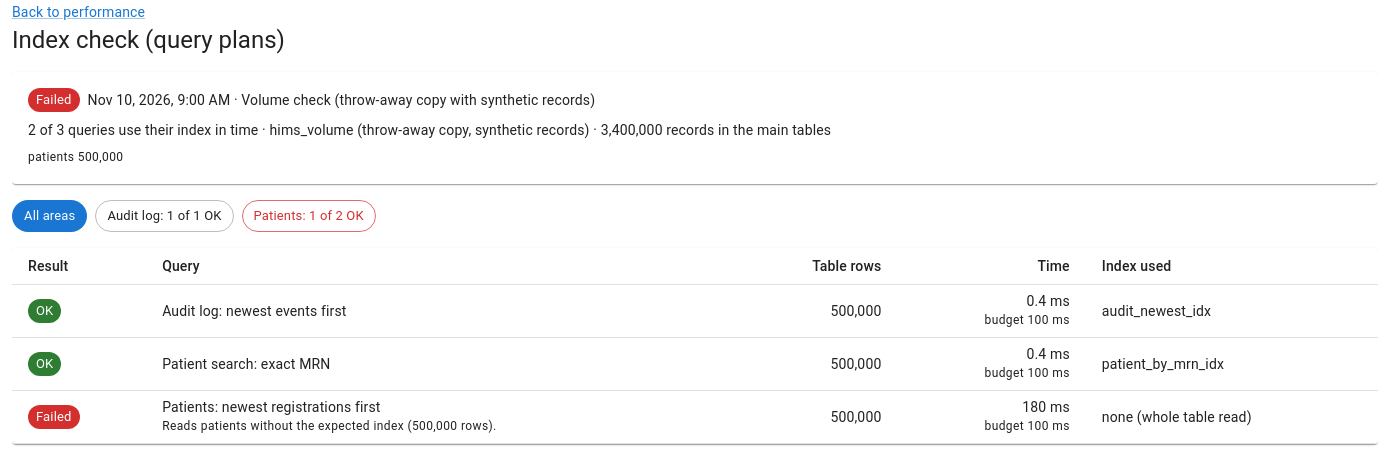
Test: Performance › groups the queries by area and shows one area at a time
Expected: the number of rows is 4, x1=12 y1=248 x2=1377 y2=284; x1=12 y1=284 x2=1377 y2=337; x1=12 y1=337 x2=1377 y2=390; x1=12 y1=390 x2=1377 y2=443
Expected: the button "Audit log: 1 of 1 OK" is shown, x1=95 y1=200 x2=234 y2=232
Click the button "Patients: 1 of 2 OK". click: (309, 216)
box: x1=242 y1=200 x2=376 y2=232
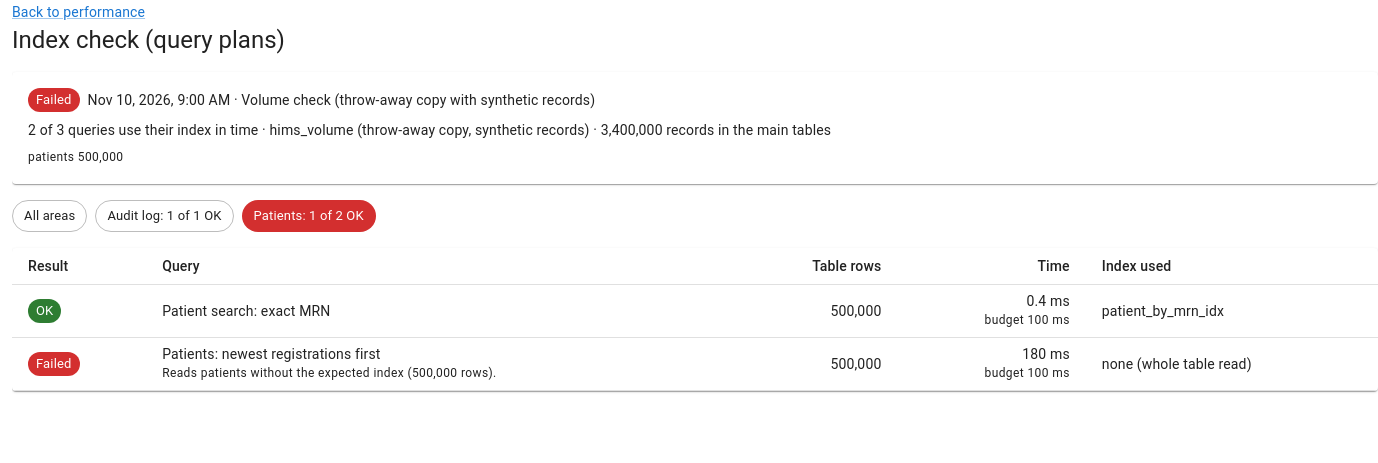
Expected: the text "Patients: newest registrations first" is shown, x1=162 y1=346 x2=380 y2=362
Expected: the text "Audit log: newest events first" is gone
Click the button "All areas". click: (50, 216)
box: x1=12 y1=200 x2=87 y2=232
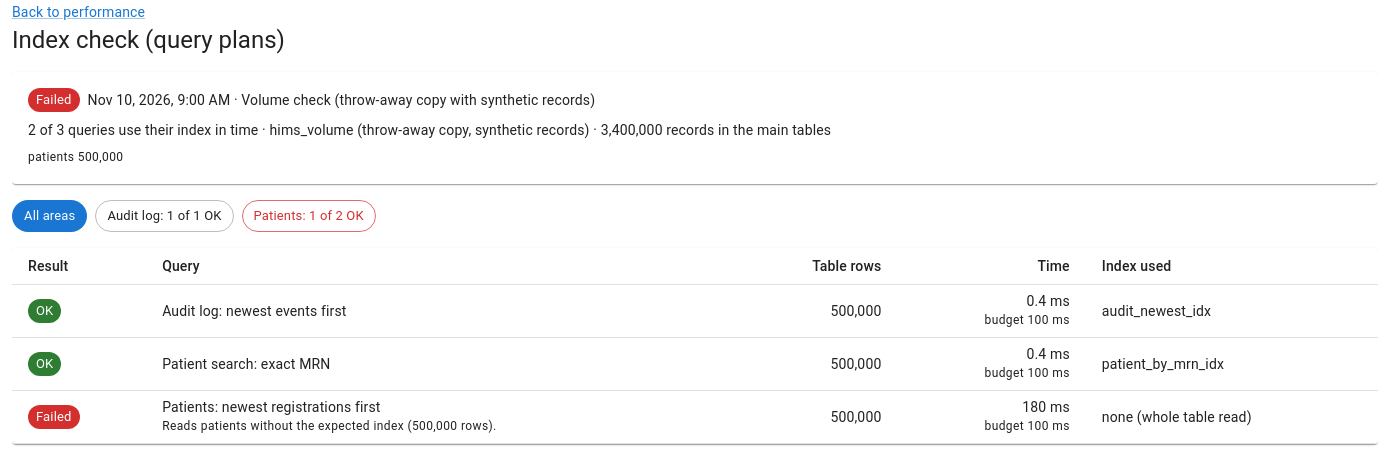
Expected: the number of rows is 4, x1=12 y1=248 x2=1377 y2=284; x1=12 y1=284 x2=1377 y2=337; x1=12 y1=337 x2=1377 y2=390; x1=12 y1=390 x2=1377 y2=443
